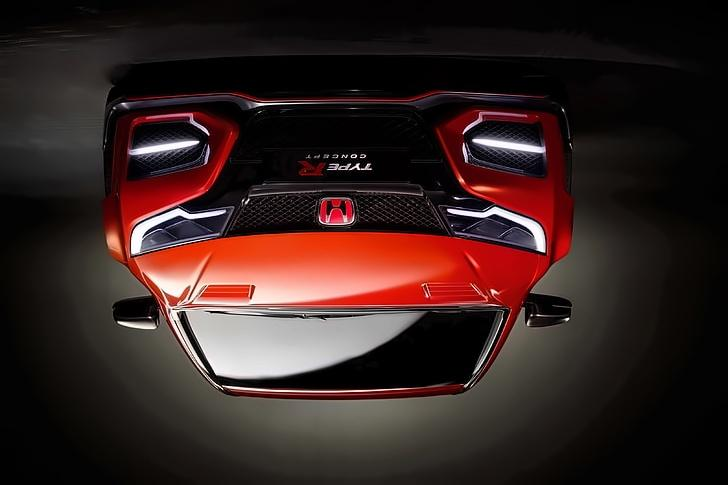Car hood: (122, 234, 552, 311)
Front bumper: (93, 77, 576, 229)
Headlight - -L-: (131, 192, 238, 262)
Headlight - -R-: (444, 197, 547, 256)
Side mirror - -L-: (109, 292, 165, 330)
Side mirror - -R-: (520, 289, 573, 330)
